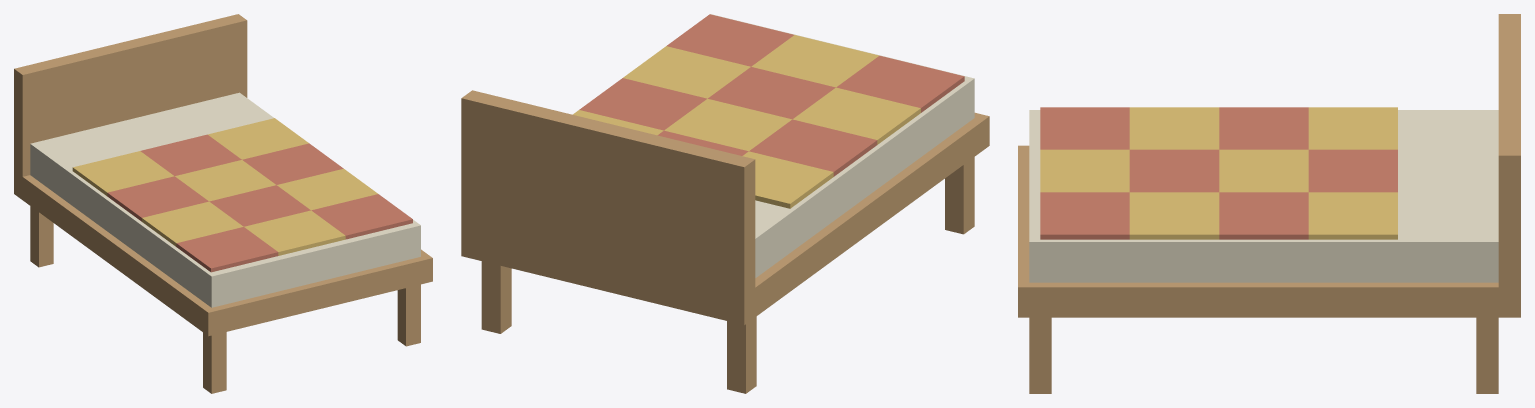
Rendered from cozy-farm-and-homestead-quilt-bed-d5f8c0bf__19424.glb.
3 renders of one model, left to right at view 1: azimuth 30°, elevation 25°; view 2: azimuth 150°, elevation 25°; view 3: azimuth 270°, elevation 25°, orthographic. The views are drawn at different scales.
Parts seen in each view (by area): view 1: quilt-bed; view 2: quilt-bed; view 3: quilt-bed.
Part boxes in pixels (x1,y1,x2,y2): quilt-bed: [14, 14, 432, 393]; quilt-bed: [461, 14, 989, 393]; quilt-bed: [1018, 14, 1520, 393].
Size of the model in its own units: 1.5 by 1.2 by 2.25.
